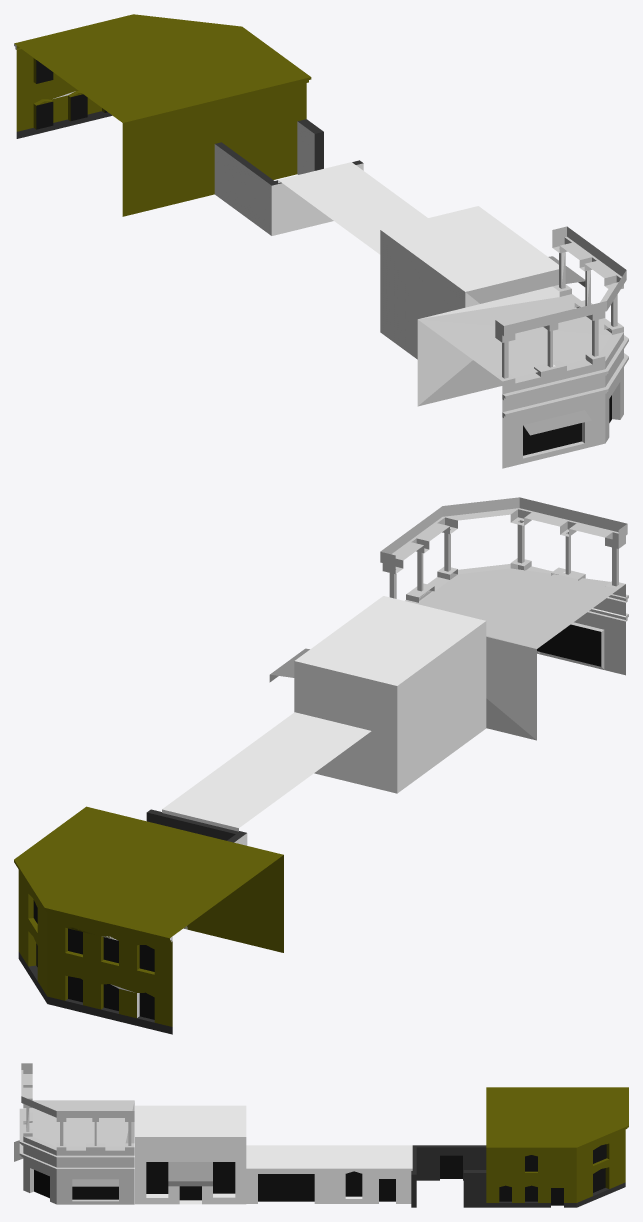
File: Edificio-6-Derecha.fbx
3 views of the same model, one above another, from view 1: azimuth 30°, elevation 25°; view 2: azimuth 150°, elevation 25°; view 3: azimuth 270°, elevation 25° (orthographic). The views are drawn at different scales.
Visible parts, largest first — view 1: Plane4; view 2: Plane4; view 3: Plane4.
Part boxes in pixels (x1,y1,x2,y2): Plane4: [14, 14, 628, 468]; Plane4: [14, 497, 628, 1034]; Plane4: [14, 1063, 628, 1207].
Size of the model in its own units: 2414 by 1493 by 8834.
